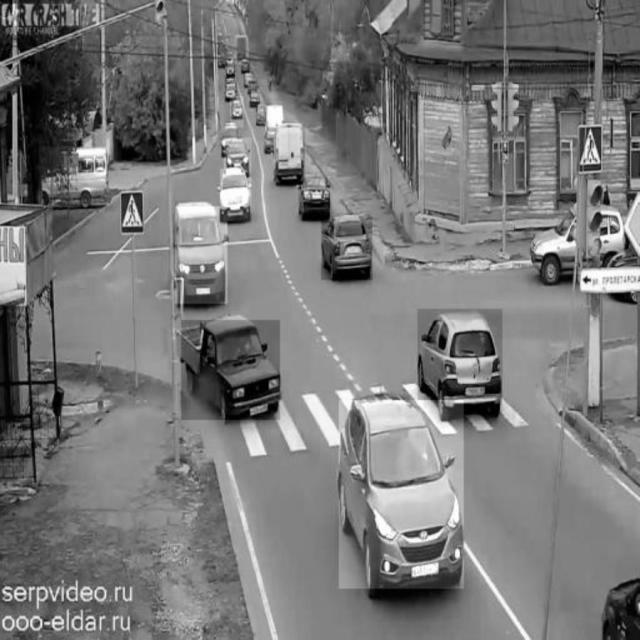vehicle: (339, 400, 463, 588), (182, 320, 280, 420), (418, 309, 502, 415), (530, 210, 628, 282), (175, 207, 227, 305), (39, 146, 109, 204), (322, 216, 373, 280), (275, 125, 305, 183), (299, 172, 333, 222), (220, 169, 250, 221), (224, 137, 251, 177), (235, 35, 249, 65), (230, 96, 244, 126), (248, 88, 263, 112), (224, 78, 238, 103)
